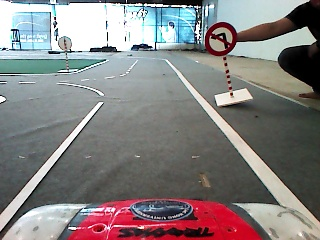ban_left: (205, 22, 236, 55)
